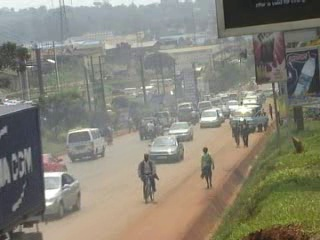Car: (42, 169, 83, 220), (148, 133, 186, 164), (40, 150, 68, 184), (137, 115, 163, 143), (166, 120, 195, 143), (198, 108, 221, 129), (175, 105, 196, 126), (214, 103, 229, 119), (214, 108, 225, 123)
Motorcycle: (142, 120, 155, 143), (102, 123, 114, 147), (189, 108, 198, 126)
